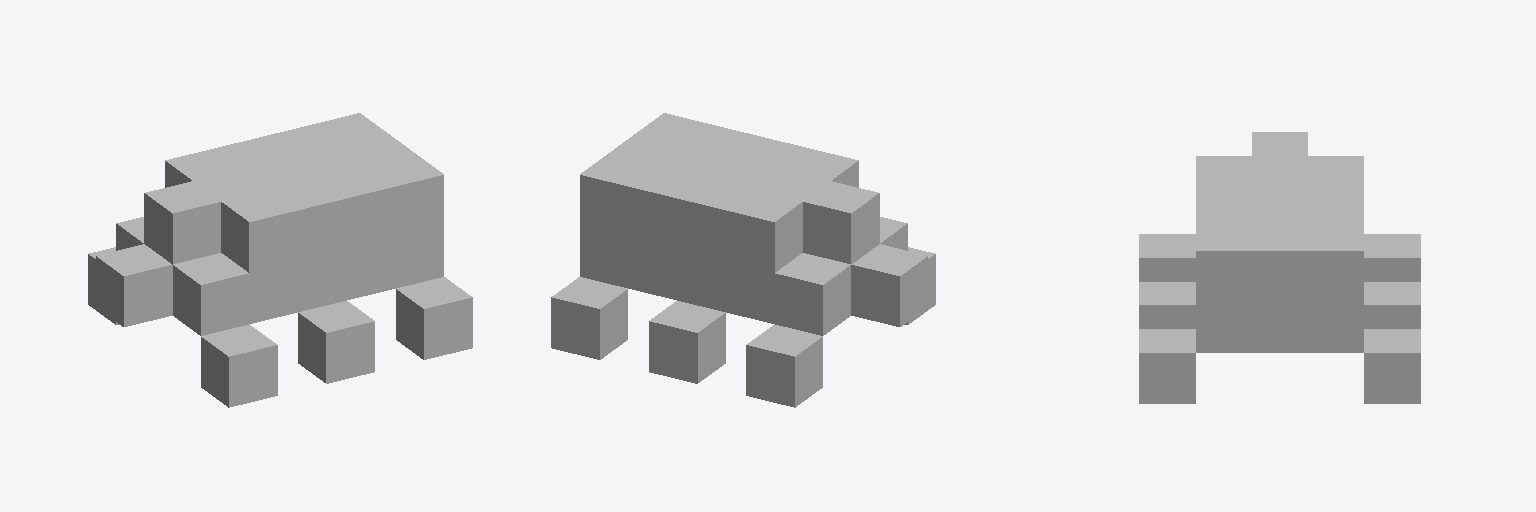
File: bug.vox.obj
3 views of the same model, side by side, from view 1: azimuth 30°, elevation 25°; view 2: azimuth 150°, elevation 25°; view 3: azimuth 270°, elevation 25° (orthographic).
Visible parts, largest first — view 1: object 1; view 2: object 1; view 3: object 1.
Part boxes in pixels (x1,y1,x2,y2): object 1: (88,113,472,407); object 1: (551,113,935,407); object 1: (1139,132,1420,403).
Bounding box in the file's own units: 0.6 × 0.3 × 0.5.